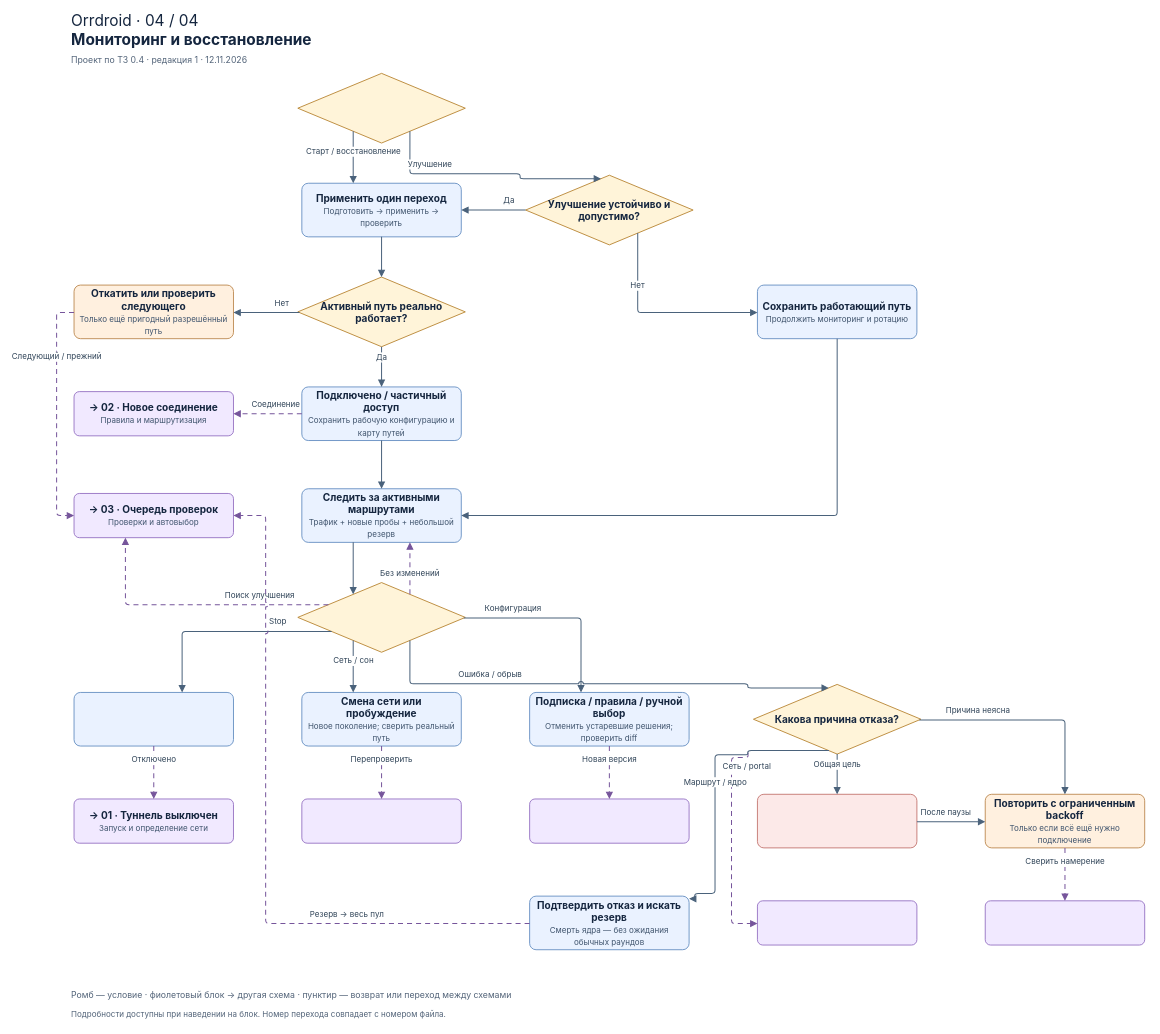
The diagram is 1160 pixels wide and 1034 high, and some of its shapes have lost their labels. Here are the shapes that lost their labels. From the top down, the centre of each, then its label:
At point 381,108: "Почему меняем путь?".
At point 381,617: "Что изменилось?".
At point 153,719: "Зафиксировать ручную остановку Отменить задачи и закрыть туннель".
At point 381,820: "→ 01 · Физическая сеть Запуск и определение сети".
At point 609,820: "→ 01 · Применение настроек Запуск и определение сети".
At point 837,820: "Подозрение на отказ контрольной цели Независимая диагностика и backoff".
At point 837,922: "→ 01 · Ожидание сети Запуск и определение сети".
At point 1064,922: "→ 01 · Запрос подключения Запуск и определение сети".
